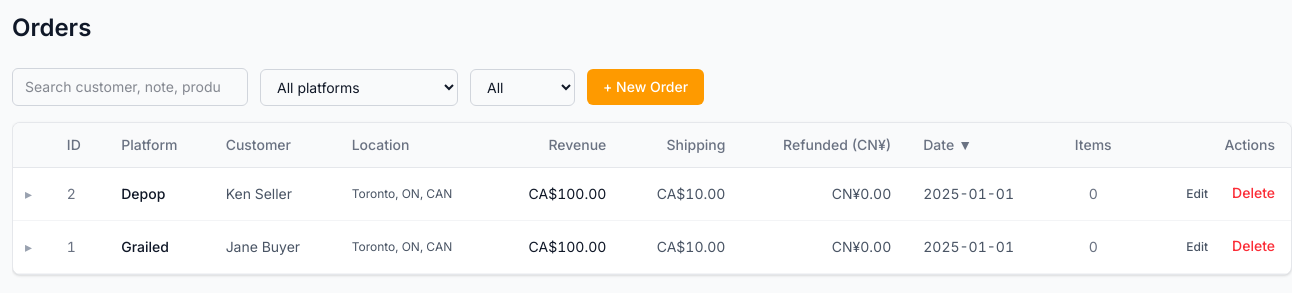
Scenario: OrdersPage › narrows rows by search
The image size is (1292, 293).
Expected: the text "Jane Buyer" is shown, left=210, top=220, right=336, bottom=274
Type "ken" into the search field named "Search orders".
click(130, 87); type("ken")  # box left=12, top=68, right=248, bottom=106
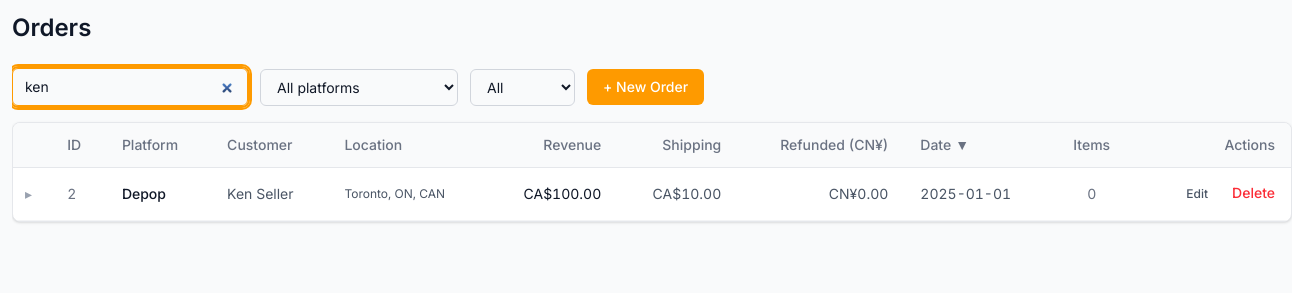
Expected: the text "Ken Seller" is shown, left=211, top=168, right=328, bottom=220
Expected: the text "Jane Buyer" is gone
